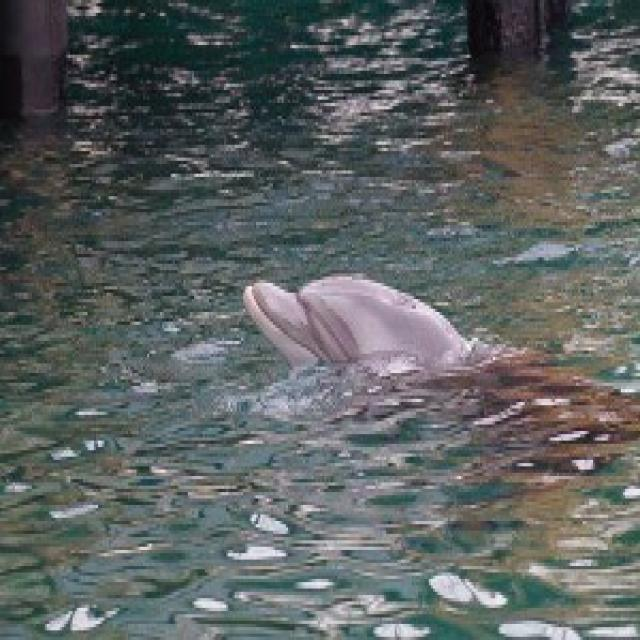Dolphin: (236, 264, 498, 392)
